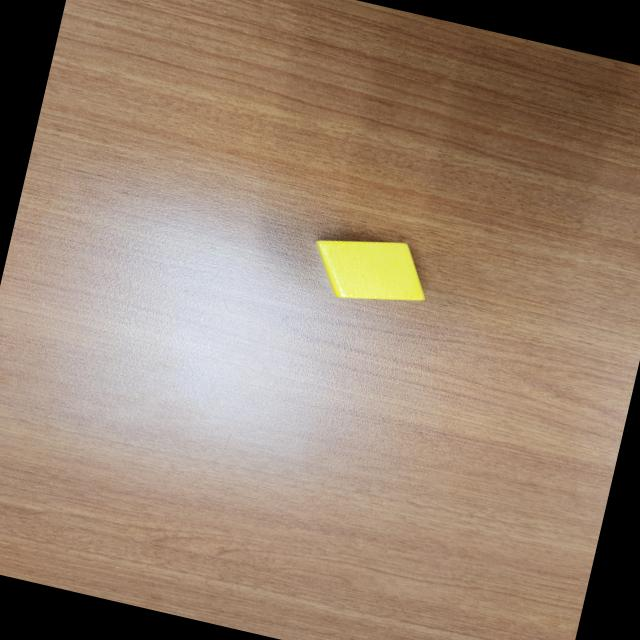yellow: (304, 223, 436, 317)
